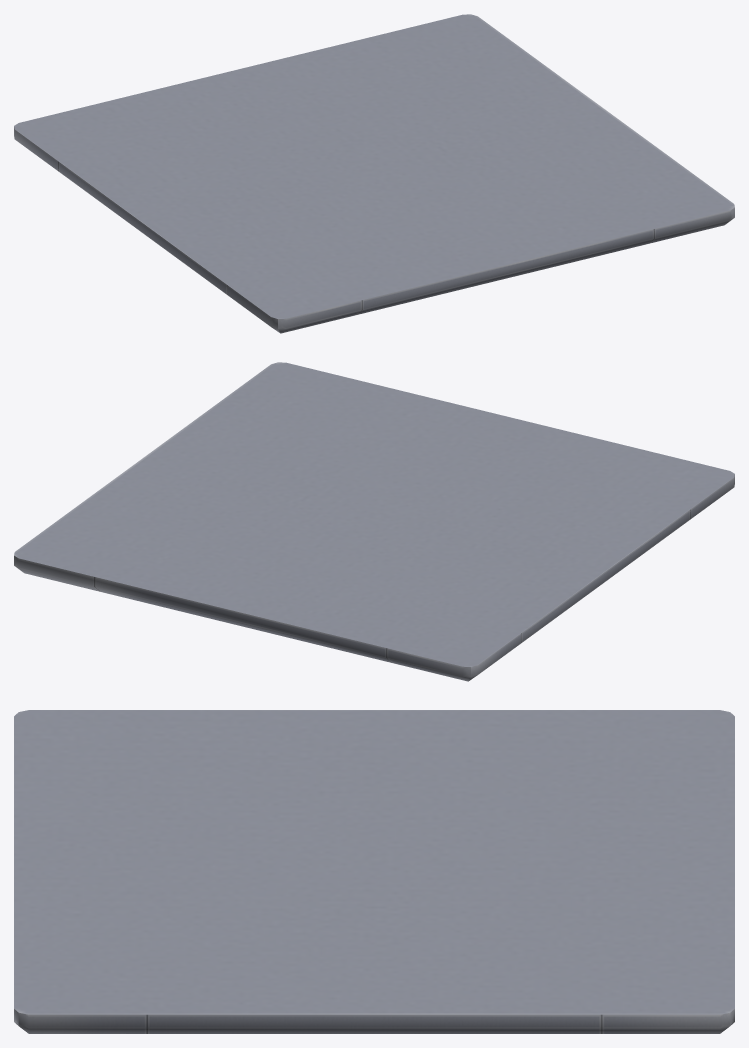
The model's file is Air_conditioner_01_01.fbx.
The picture shows the model from 3 angles, top to bottom: view 1: azimuth 30°, elevation 25°; view 2: azimuth 150°, elevation 25°; view 3: azimuth 270°, elevation 25°; orthographic projection. The views are drawn at different scales.
Parts seen in each view (by area): view 1: air_conditioner_01_01; view 2: air_conditioner_01_01; view 3: air_conditioner_01_01.
Boxes of the visible parts, x1,y1,x2,y2 form: air_conditioner_01_01: (14,14,734,333); air_conditioner_01_01: (14,362,734,681); air_conditioner_01_01: (14,710,734,1033).
Size of the model in its own units: 100 by 3.9 by 100.
